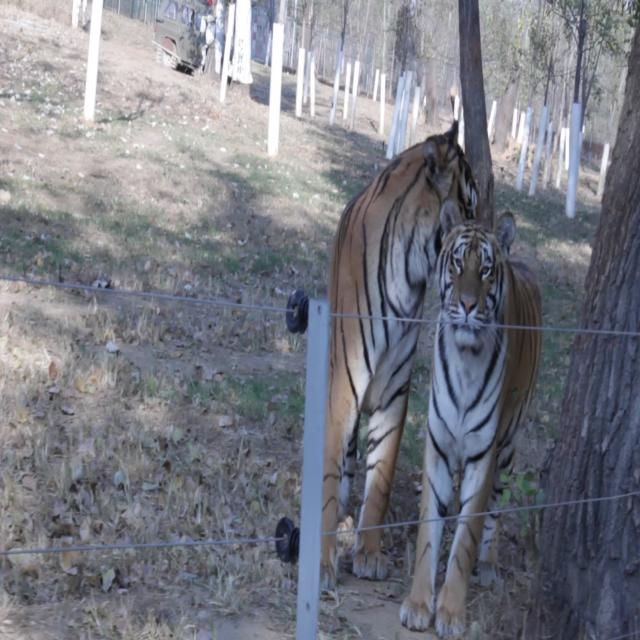Tiger: (306, 120, 485, 600), (397, 198, 543, 639)
